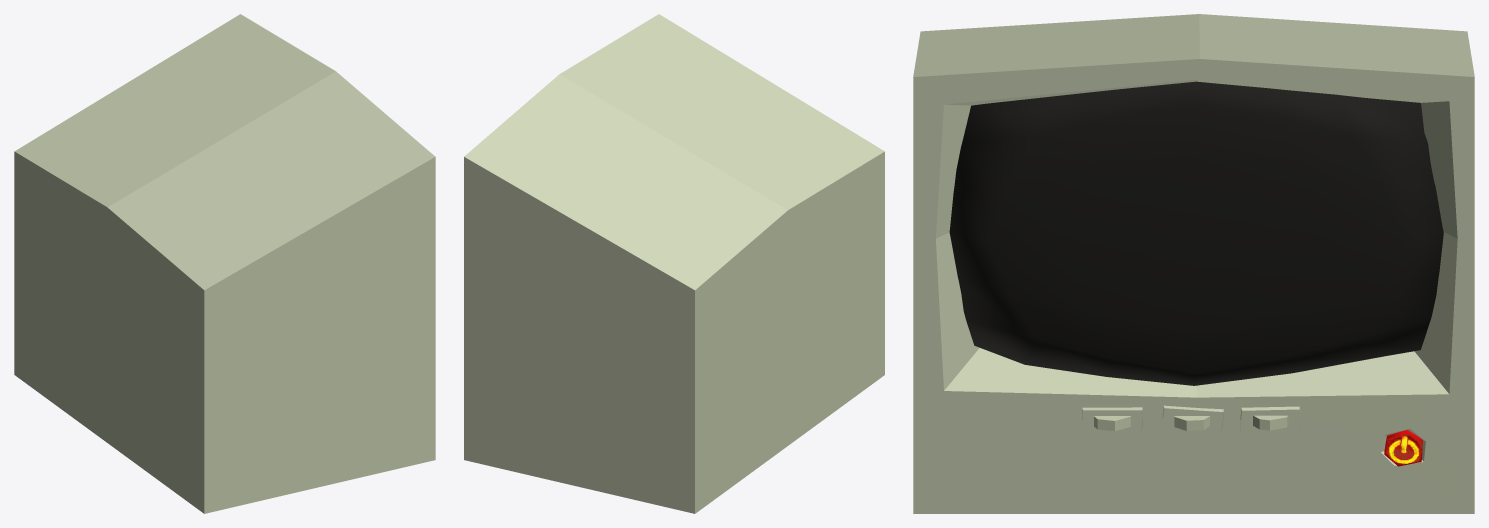
Rendered from Terminal_Main_Unfloppy_UV.fbx.
3 renders of one model, left to right at view 1: azimuth 30°, elevation 25°; view 2: azimuth 150°, elevation 25°; view 3: azimuth 270°, elevation 25°, orthographic. The views are drawn at different scales.
Visible parts, largest first — view 1: Terminal_Body; view 2: Terminal_Body; view 3: Terminal_Body, Terminal_Screen, Terminal_Eject.001.
Boxes of the visible parts, x1,y1,x2,y2 form: Terminal_Body: (14, 14, 435, 513); Terminal_Body: (464, 14, 884, 513); Terminal_Body: (913, 14, 1474, 513); Terminal_Screen: (949, 81, 1443, 385); Terminal_Eject.001: (1384, 430, 1422, 466).
Bounding box in the file's own units: 98.08 × 69.26 × 87.67.
